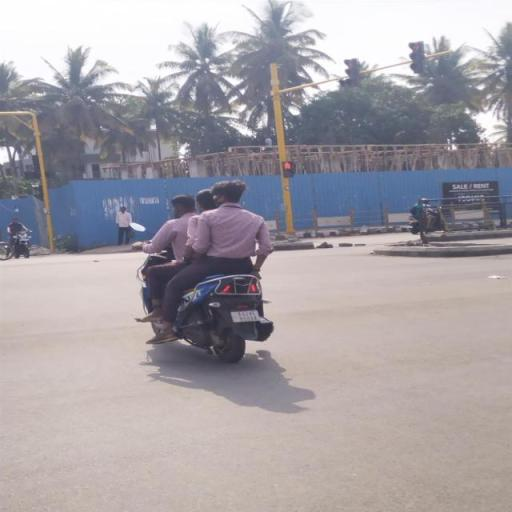tripple riding: (127, 179, 277, 270)
